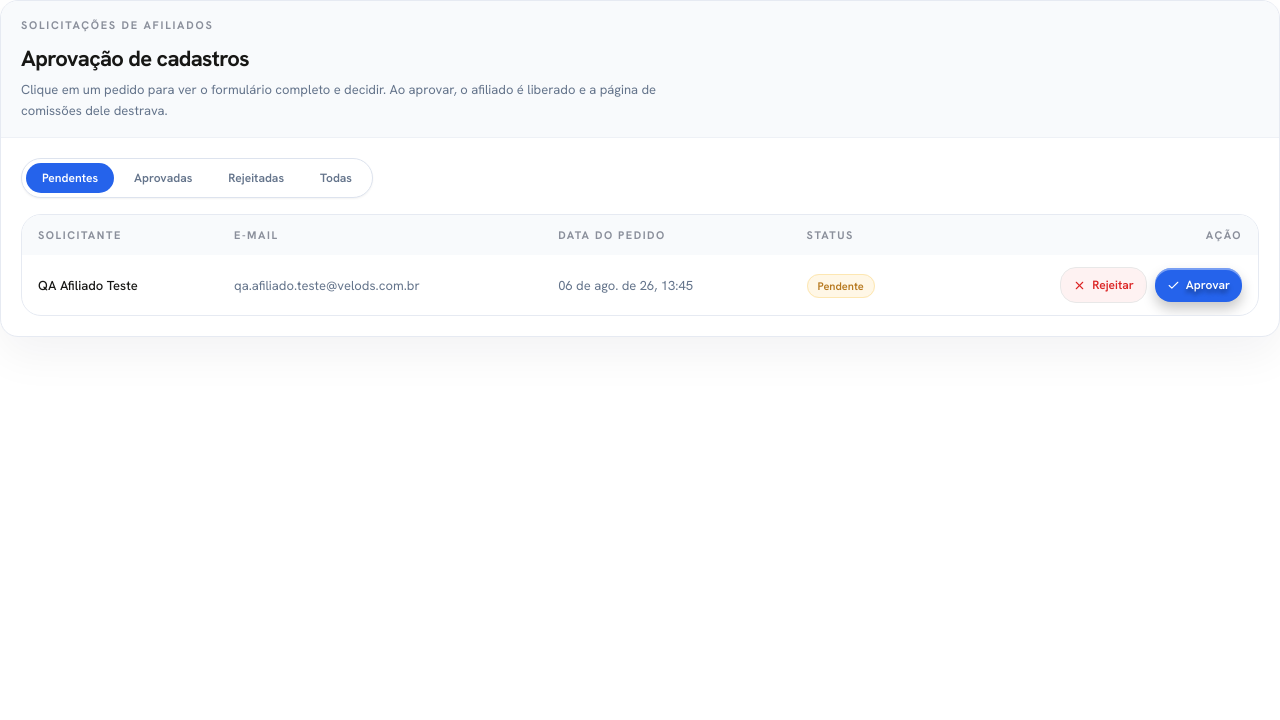
Test: AdminAffiliateApplicationsPanel › abre o formulário completo ao clicar no pedido
The width and height of the screenshot is (1280, 720).
Click the text "QA Afiliado Teste" at point(88, 285), box [38,276,138,294]
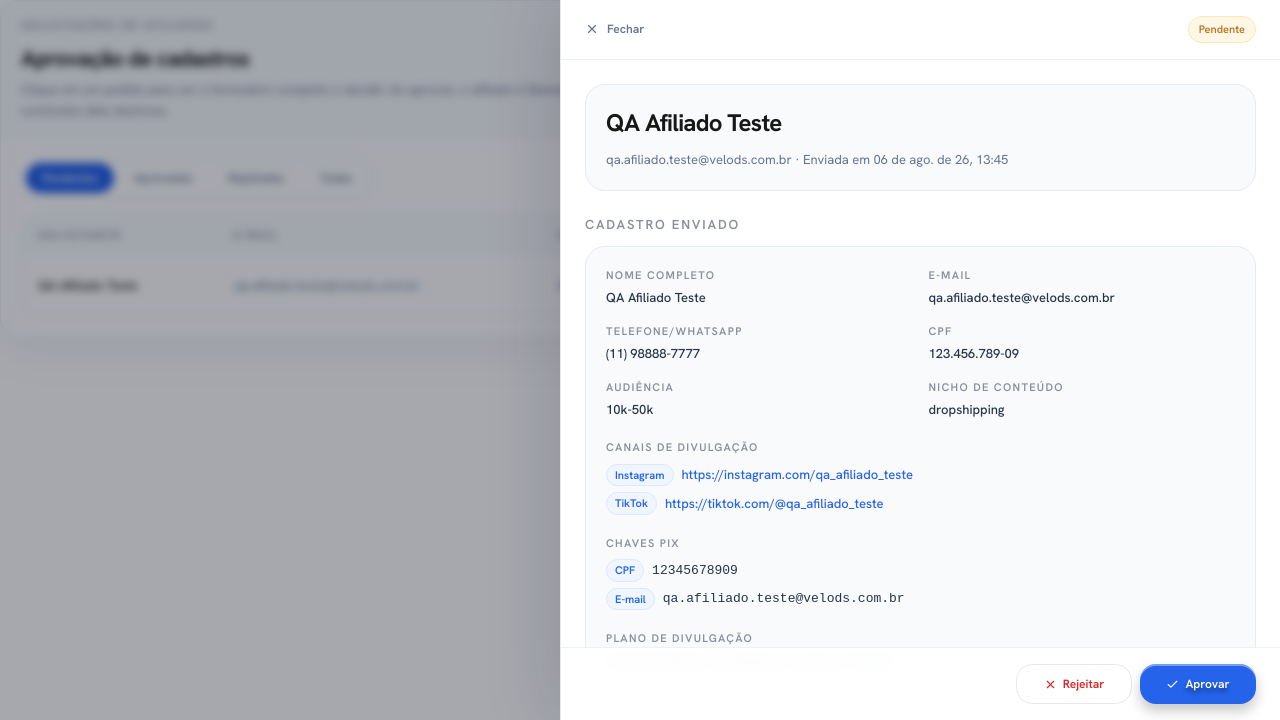
Now the text "(11) 98888-7777" is shown, box [606,345,700,362]
Now the text "123.456.789-09" is shown, box [928,345,1019,362]
Now the text "10k-50k" is shown, box [606,401,653,418]
